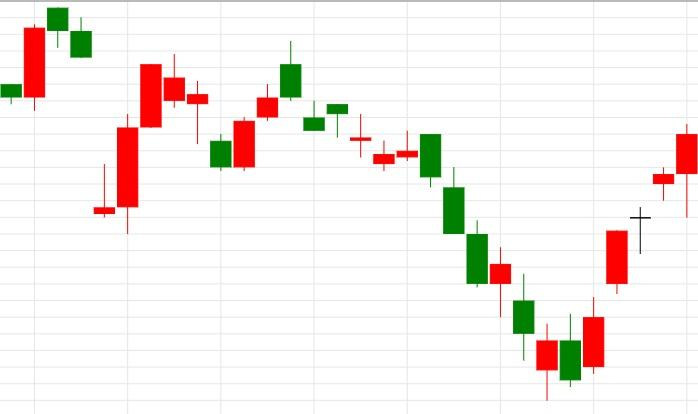bullish_engulfing_rise: (164, 55, 255, 171)
